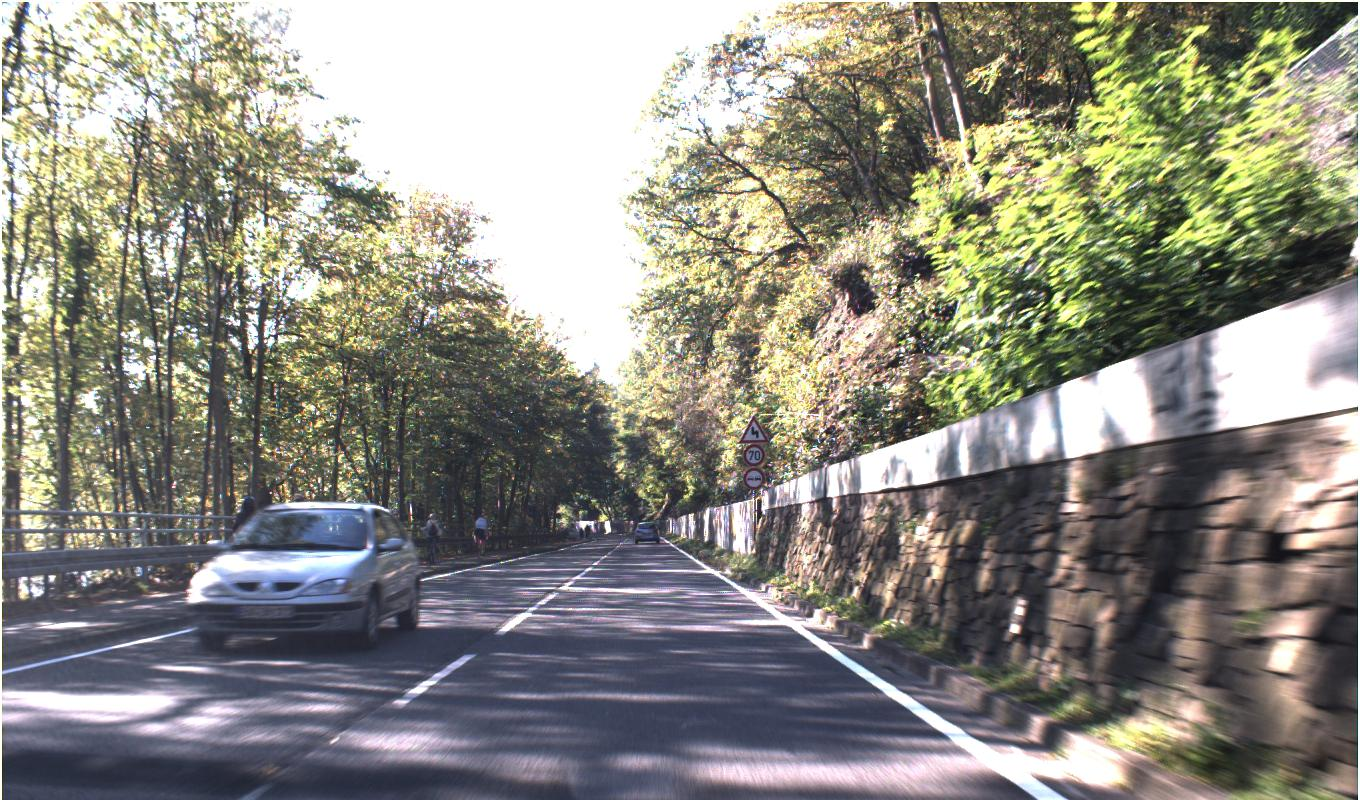danger: (737, 412, 769, 443)
prohibitory: (742, 443, 765, 466), (742, 466, 764, 489)
